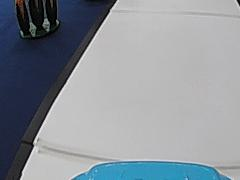corn: (13, 0, 62, 39)
